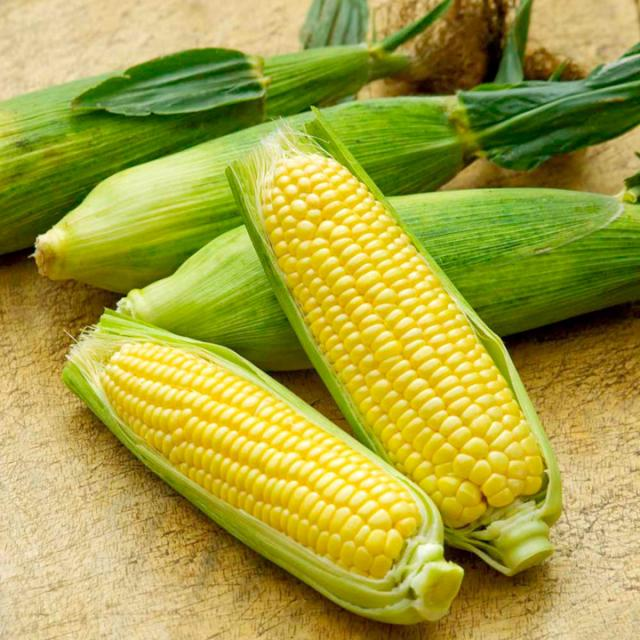corn: (233, 116, 569, 578), (78, 316, 464, 612)
